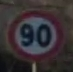limite 90: (6, 10, 63, 64)
